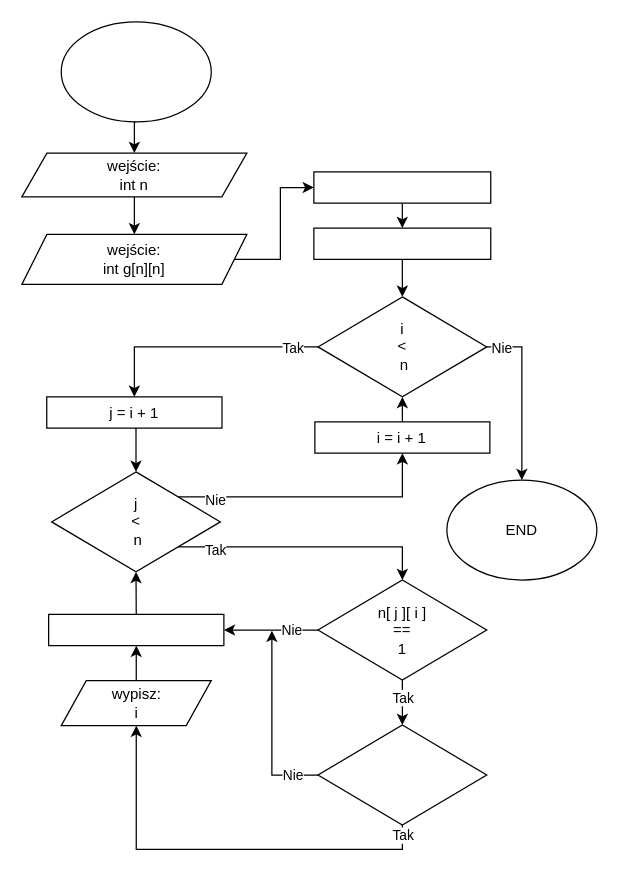
This 619x881 diagram has some shape labels left out. Each missing label, with the box of its shape:
int i = 0: (313, 171, 491, 203)
int j: (313, 227, 491, 259)
j = j + 1: (47, 613, 224, 646)
n[ i ][ j ] == 1: (317, 724, 487, 825)
START: (60, 21, 211, 122)
